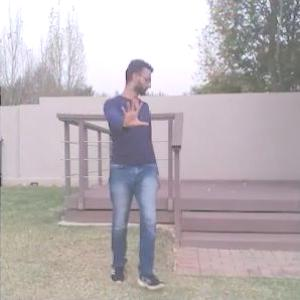follow_hand: (117, 91, 150, 132)
